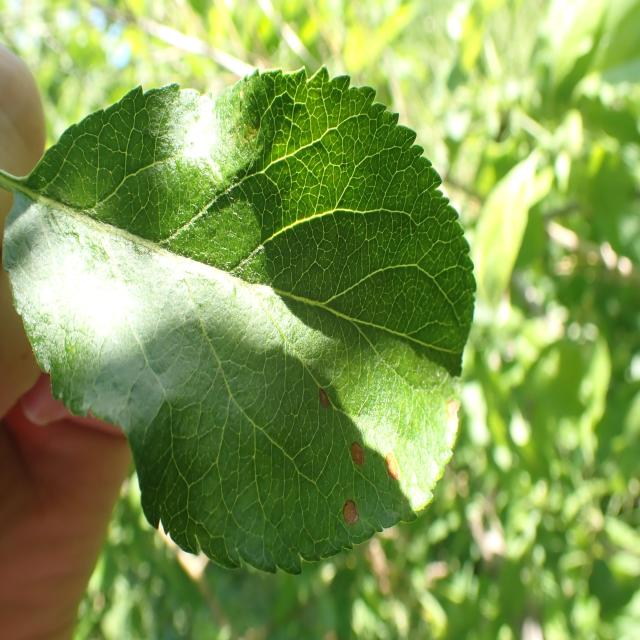Black Rot: (372, 423, 405, 504), (432, 383, 472, 437), (334, 488, 364, 546), (338, 434, 372, 484), (316, 375, 342, 430)
